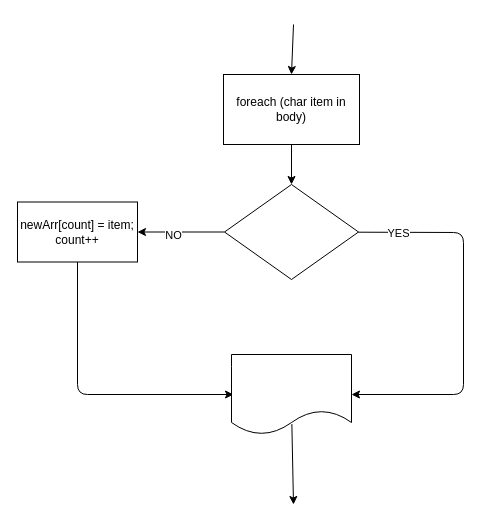
This 489x530 diagram has some shape labels left out. The box of each missing label's shape, as (x1, y1, x2, y2) in pixels:
Conslusion: (230, 354, 352, 434)
if !char.isDigit(item): (224, 184, 358, 280)
